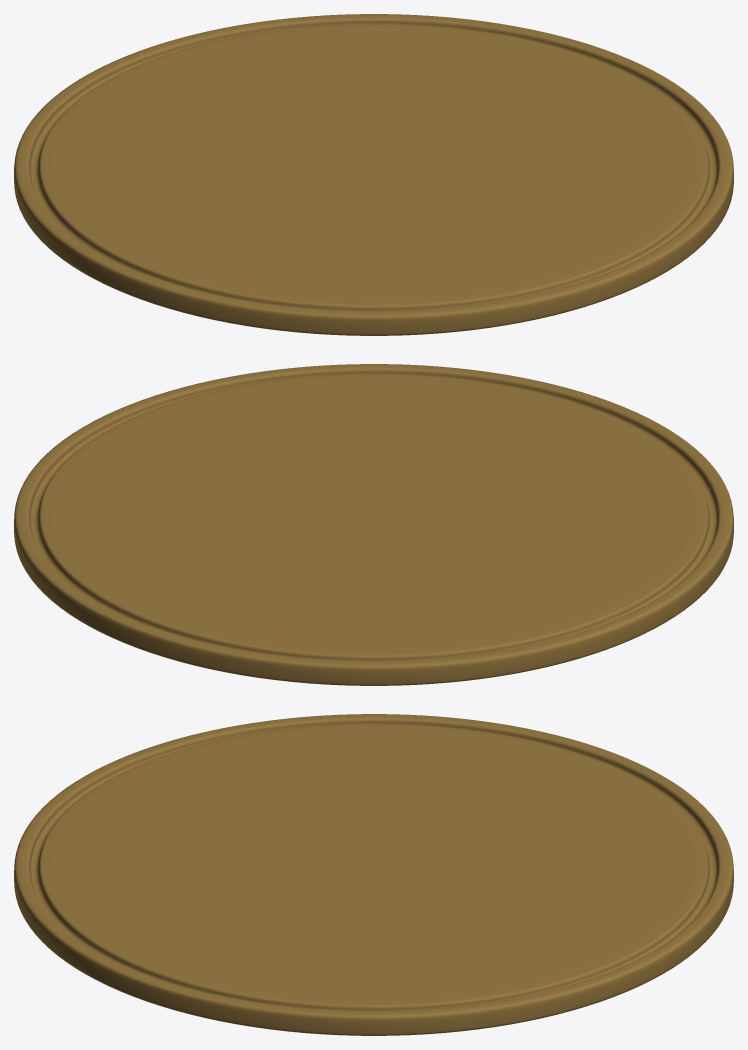
Rendered from pizzaPlate.fbx.
3 views of the same model, one above another, from view 1: azimuth 30°, elevation 25°; view 2: azimuth 150°, elevation 25°; view 3: azimuth 270°, elevation 25° (orthographic).
Visible parts, largest first — view 1: Circle; view 2: Circle; view 3: Circle.
Boxes of the visible parts, left/top/right/bottom form: Circle: left=14, top=14, right=733, bottom=335; Circle: left=14, top=364, right=733, bottom=685; Circle: left=14, top=714, right=733, bottom=1035.
Bounding box in the file's own units: 583 × 18.5 × 583.
